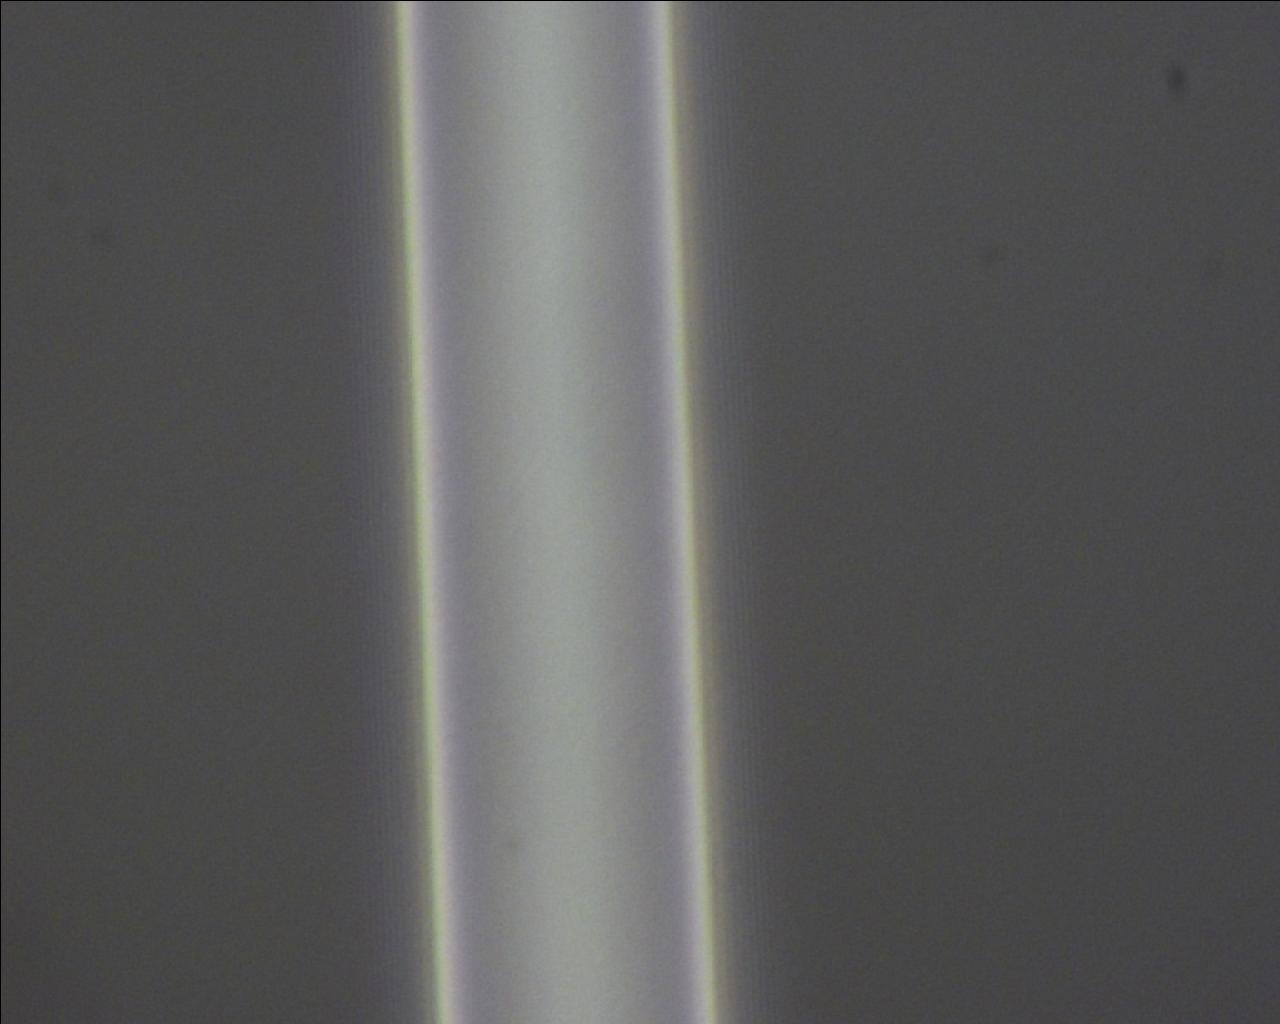fiber: (627, 203, 958, 1024)
